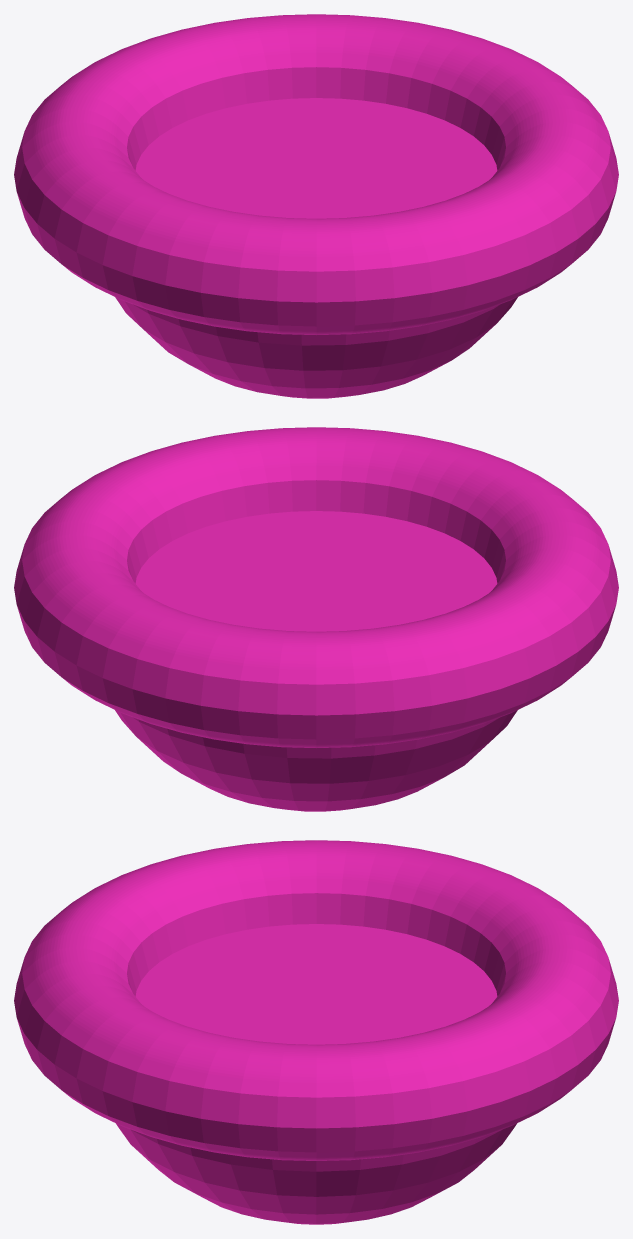
File: Pink_Button_Up.fbx
The picture shows the model from 3 angles, top to bottom: view 1: azimuth 30°, elevation 25°; view 2: azimuth 150°, elevation 25°; view 3: azimuth 270°, elevation 25°; orthographic projection.
Visible parts, largest first — view 1: Torus, Sphere; view 2: Torus, Sphere; view 3: Torus, Sphere.
Part boxes in pixels (x1,y1,x2,y2): Torus: [14, 14, 618, 334]; Sphere: [115, 98, 517, 398]; Torus: [14, 427, 618, 747]; Sphere: [115, 511, 517, 811]; Torus: [14, 840, 618, 1160]; Sphere: [116, 924, 516, 1224].
Size of the model in its own units: 250 by 115 by 250.
